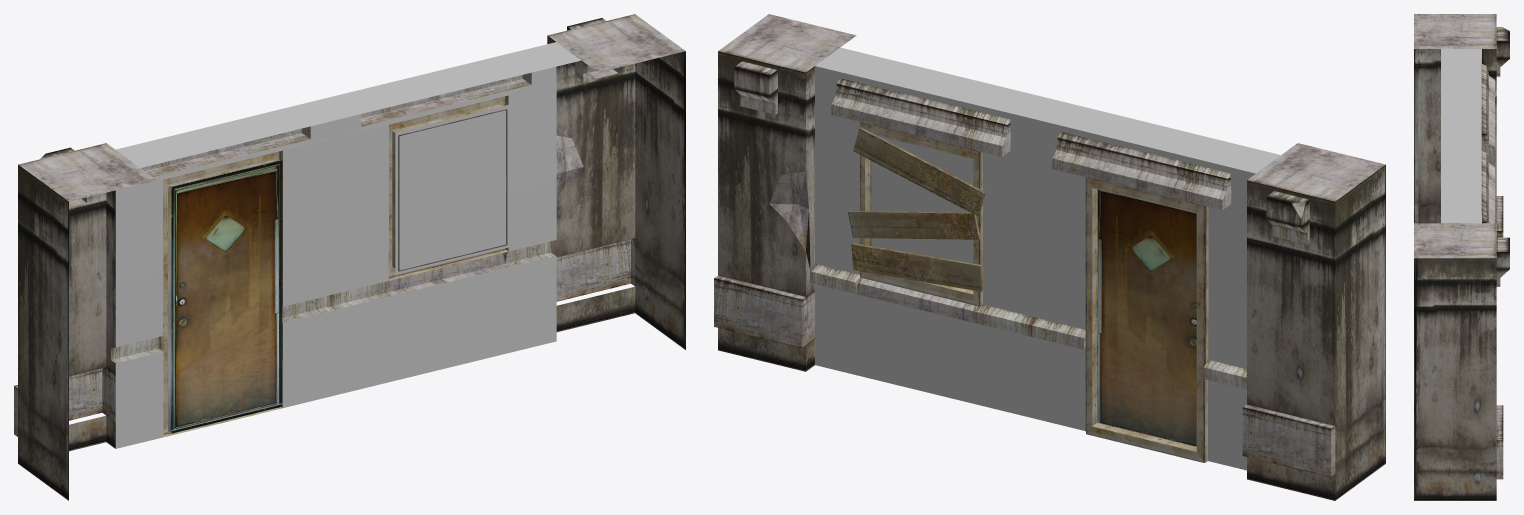
File: Store_front_3_A.fbx
3 renders of one model, left to right at view 1: azimuth 30°, elevation 25°; view 2: azimuth 150°, elevation 25°; view 3: azimuth 270°, elevation 25°, orthographic. The views are drawn at different scales.
Visible parts, largest first — view 1: Store_front_3_A; view 2: Store_front_3_A; view 3: Store_front_3_A.
Boxes of the visible parts, x1=… form: Store_front_3_A: x1=14, y1=14, x2=685, y2=500; Store_front_3_A: x1=714, y1=14, x2=1385, y2=500; Store_front_3_A: x1=1414, y1=14, x2=1509, y2=500.
Size of the model in its own units: 700 by 325 by 116.
